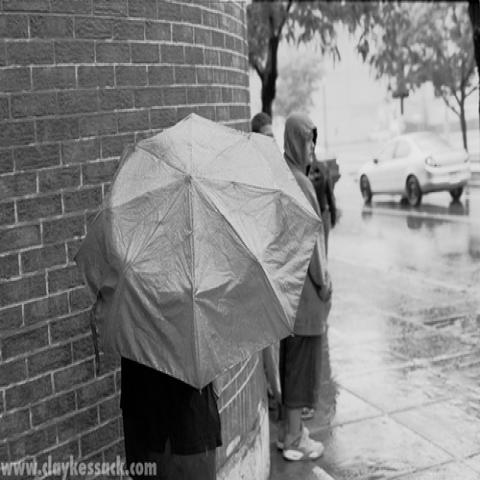car: (358, 131, 472, 210)
